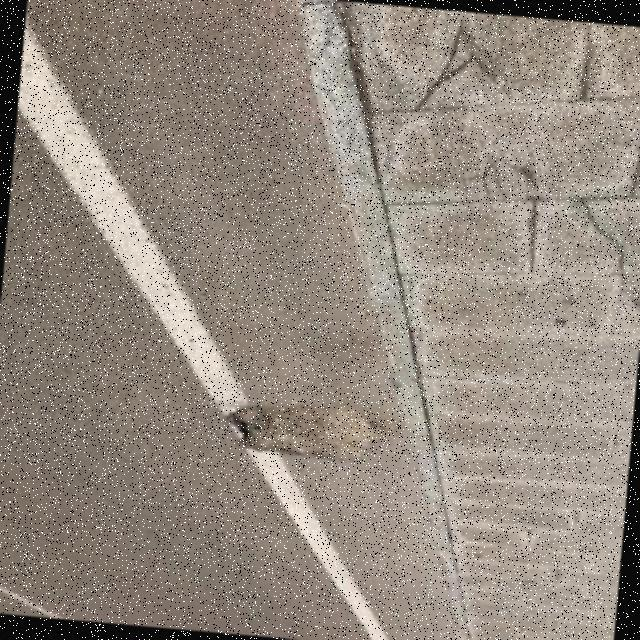Pothole: (227, 403, 385, 462)
